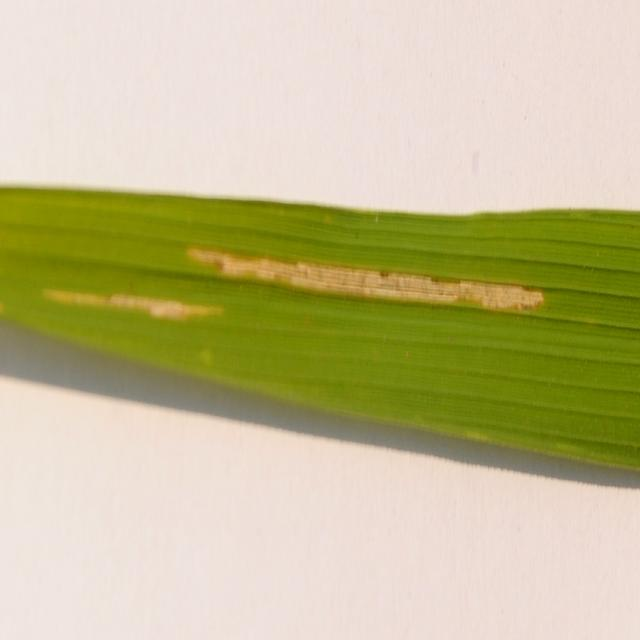leaf blight: (183, 230, 547, 324), (35, 270, 229, 338), (0, 270, 7, 323)
